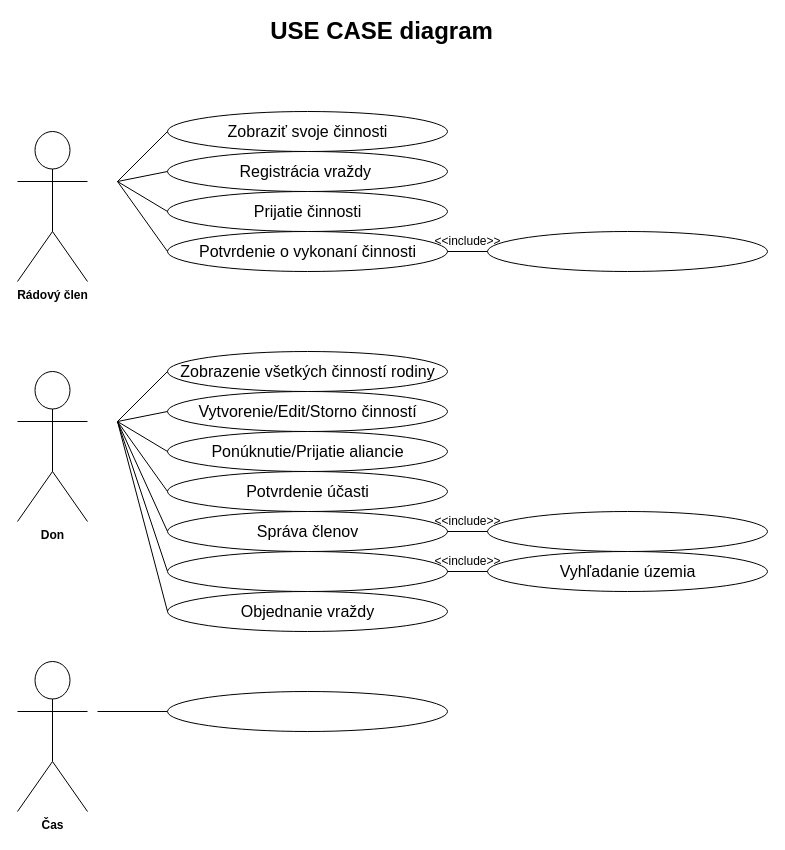
This 785x850 diagram has some shape labels left out. The centre of each missing label's shape, as x and y in pixels:
"Pozvanie na stretnutie Donov" goes at (307,711).
"Správa území" goes at (307,571).
"Vyhľadanie činnosti" goes at (627,251).
"Vyhľadanie člena" goes at (627,531).
